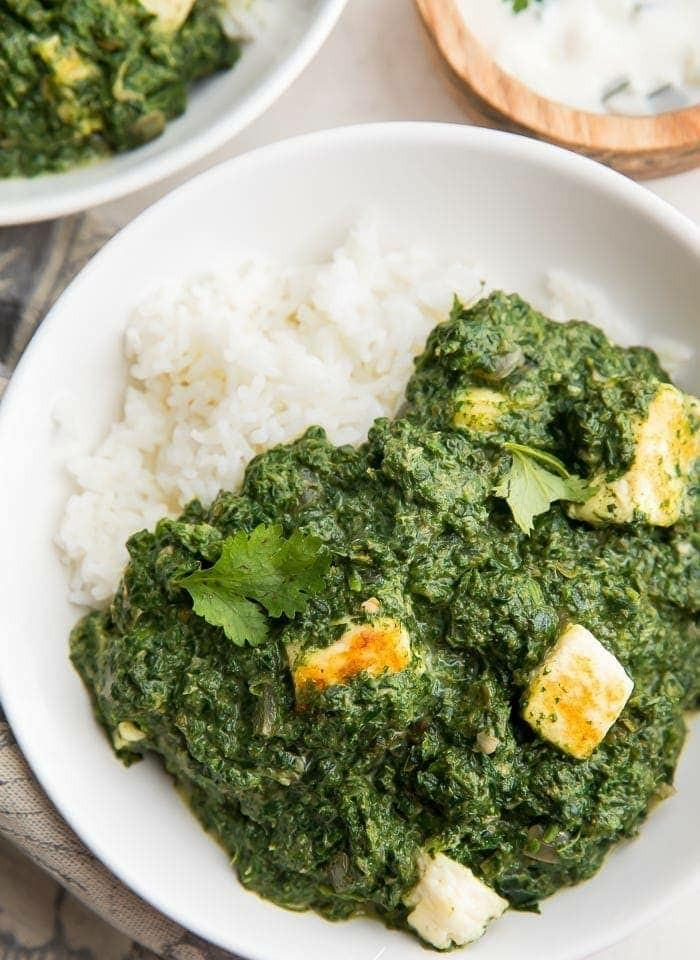PalakPaneer: (77, 290, 700, 951)
